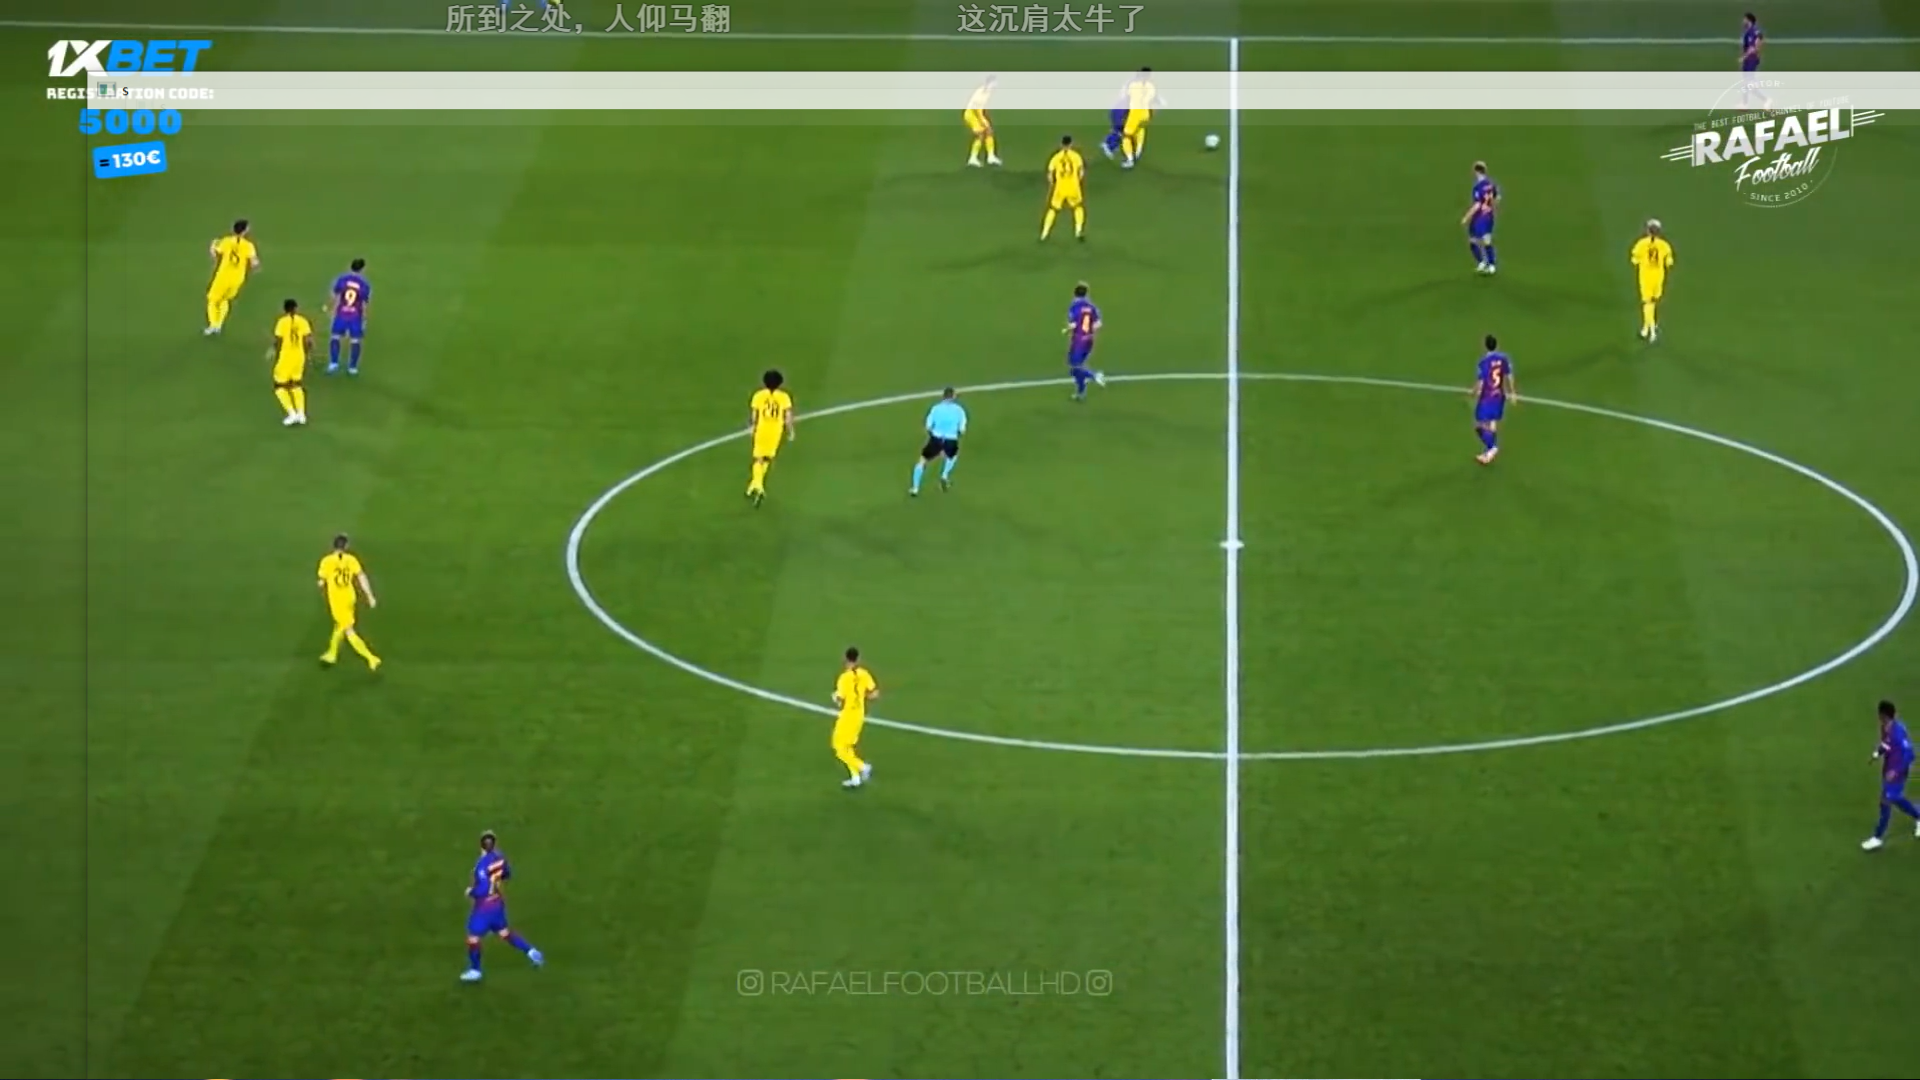ft: (1203, 135, 1222, 153)
